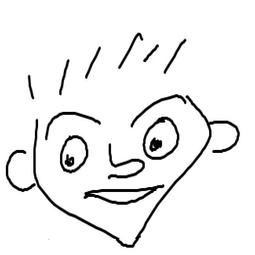ear: (205, 115, 244, 160), (4, 151, 37, 195)
eye: (140, 115, 184, 163), (58, 135, 90, 179)
eyebrow: (42, 108, 102, 142)
frowning_eyebrow: (129, 91, 189, 129)
nose: (102, 141, 147, 181)
open_mouth: (79, 182, 162, 207)
